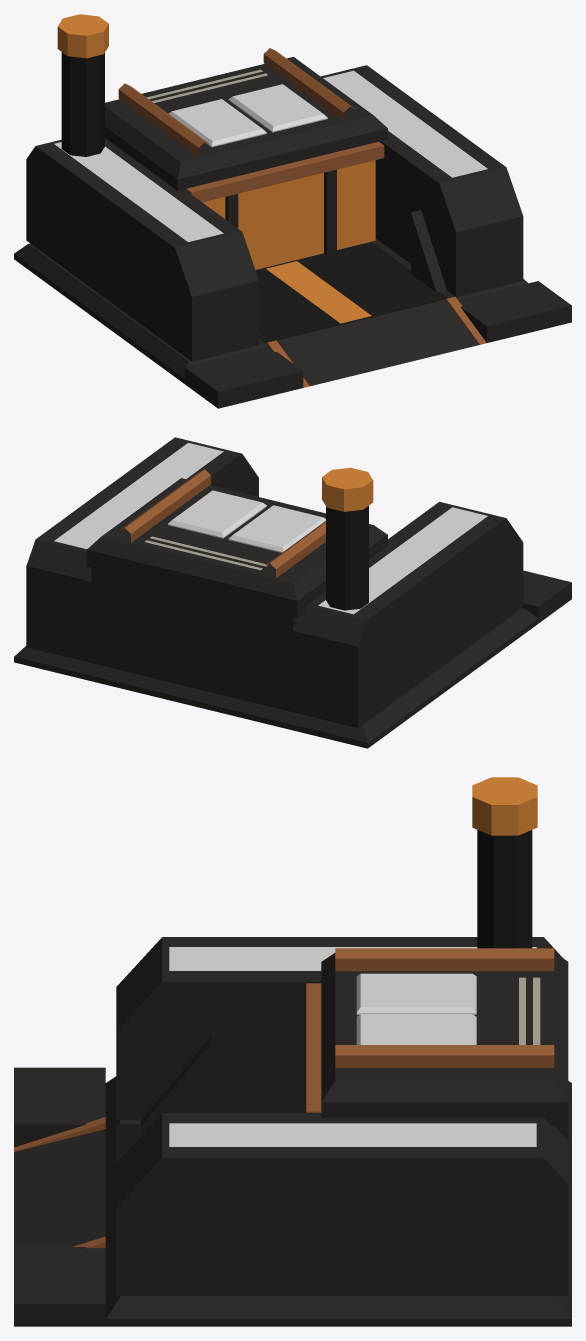
The model's file is str_t2_fac_land.1a22c8ed.raw.glb.
The picture shows the model from 3 angles, top to bottom: view 1: azimuth 30°, elevation 25°; view 2: azimuth 150°, elevation 25°; view 3: azimuth 270°, elevation 25°; orthographic projection. The views are drawn at different scales.
Visible parts, largest first — view 1: lod0; view 2: lod0; view 3: lod0.
Boxes of the visible parts, left/top/right/bottom form: lod0: left=14, top=14, right=571, bottom=408; lod0: left=14, top=437, right=571, bottom=748; lod0: left=14, top=777, right=571, bottom=1326.
Size of what is drawn, in the model's own units: 4.94 by 3.22 by 4.94.
